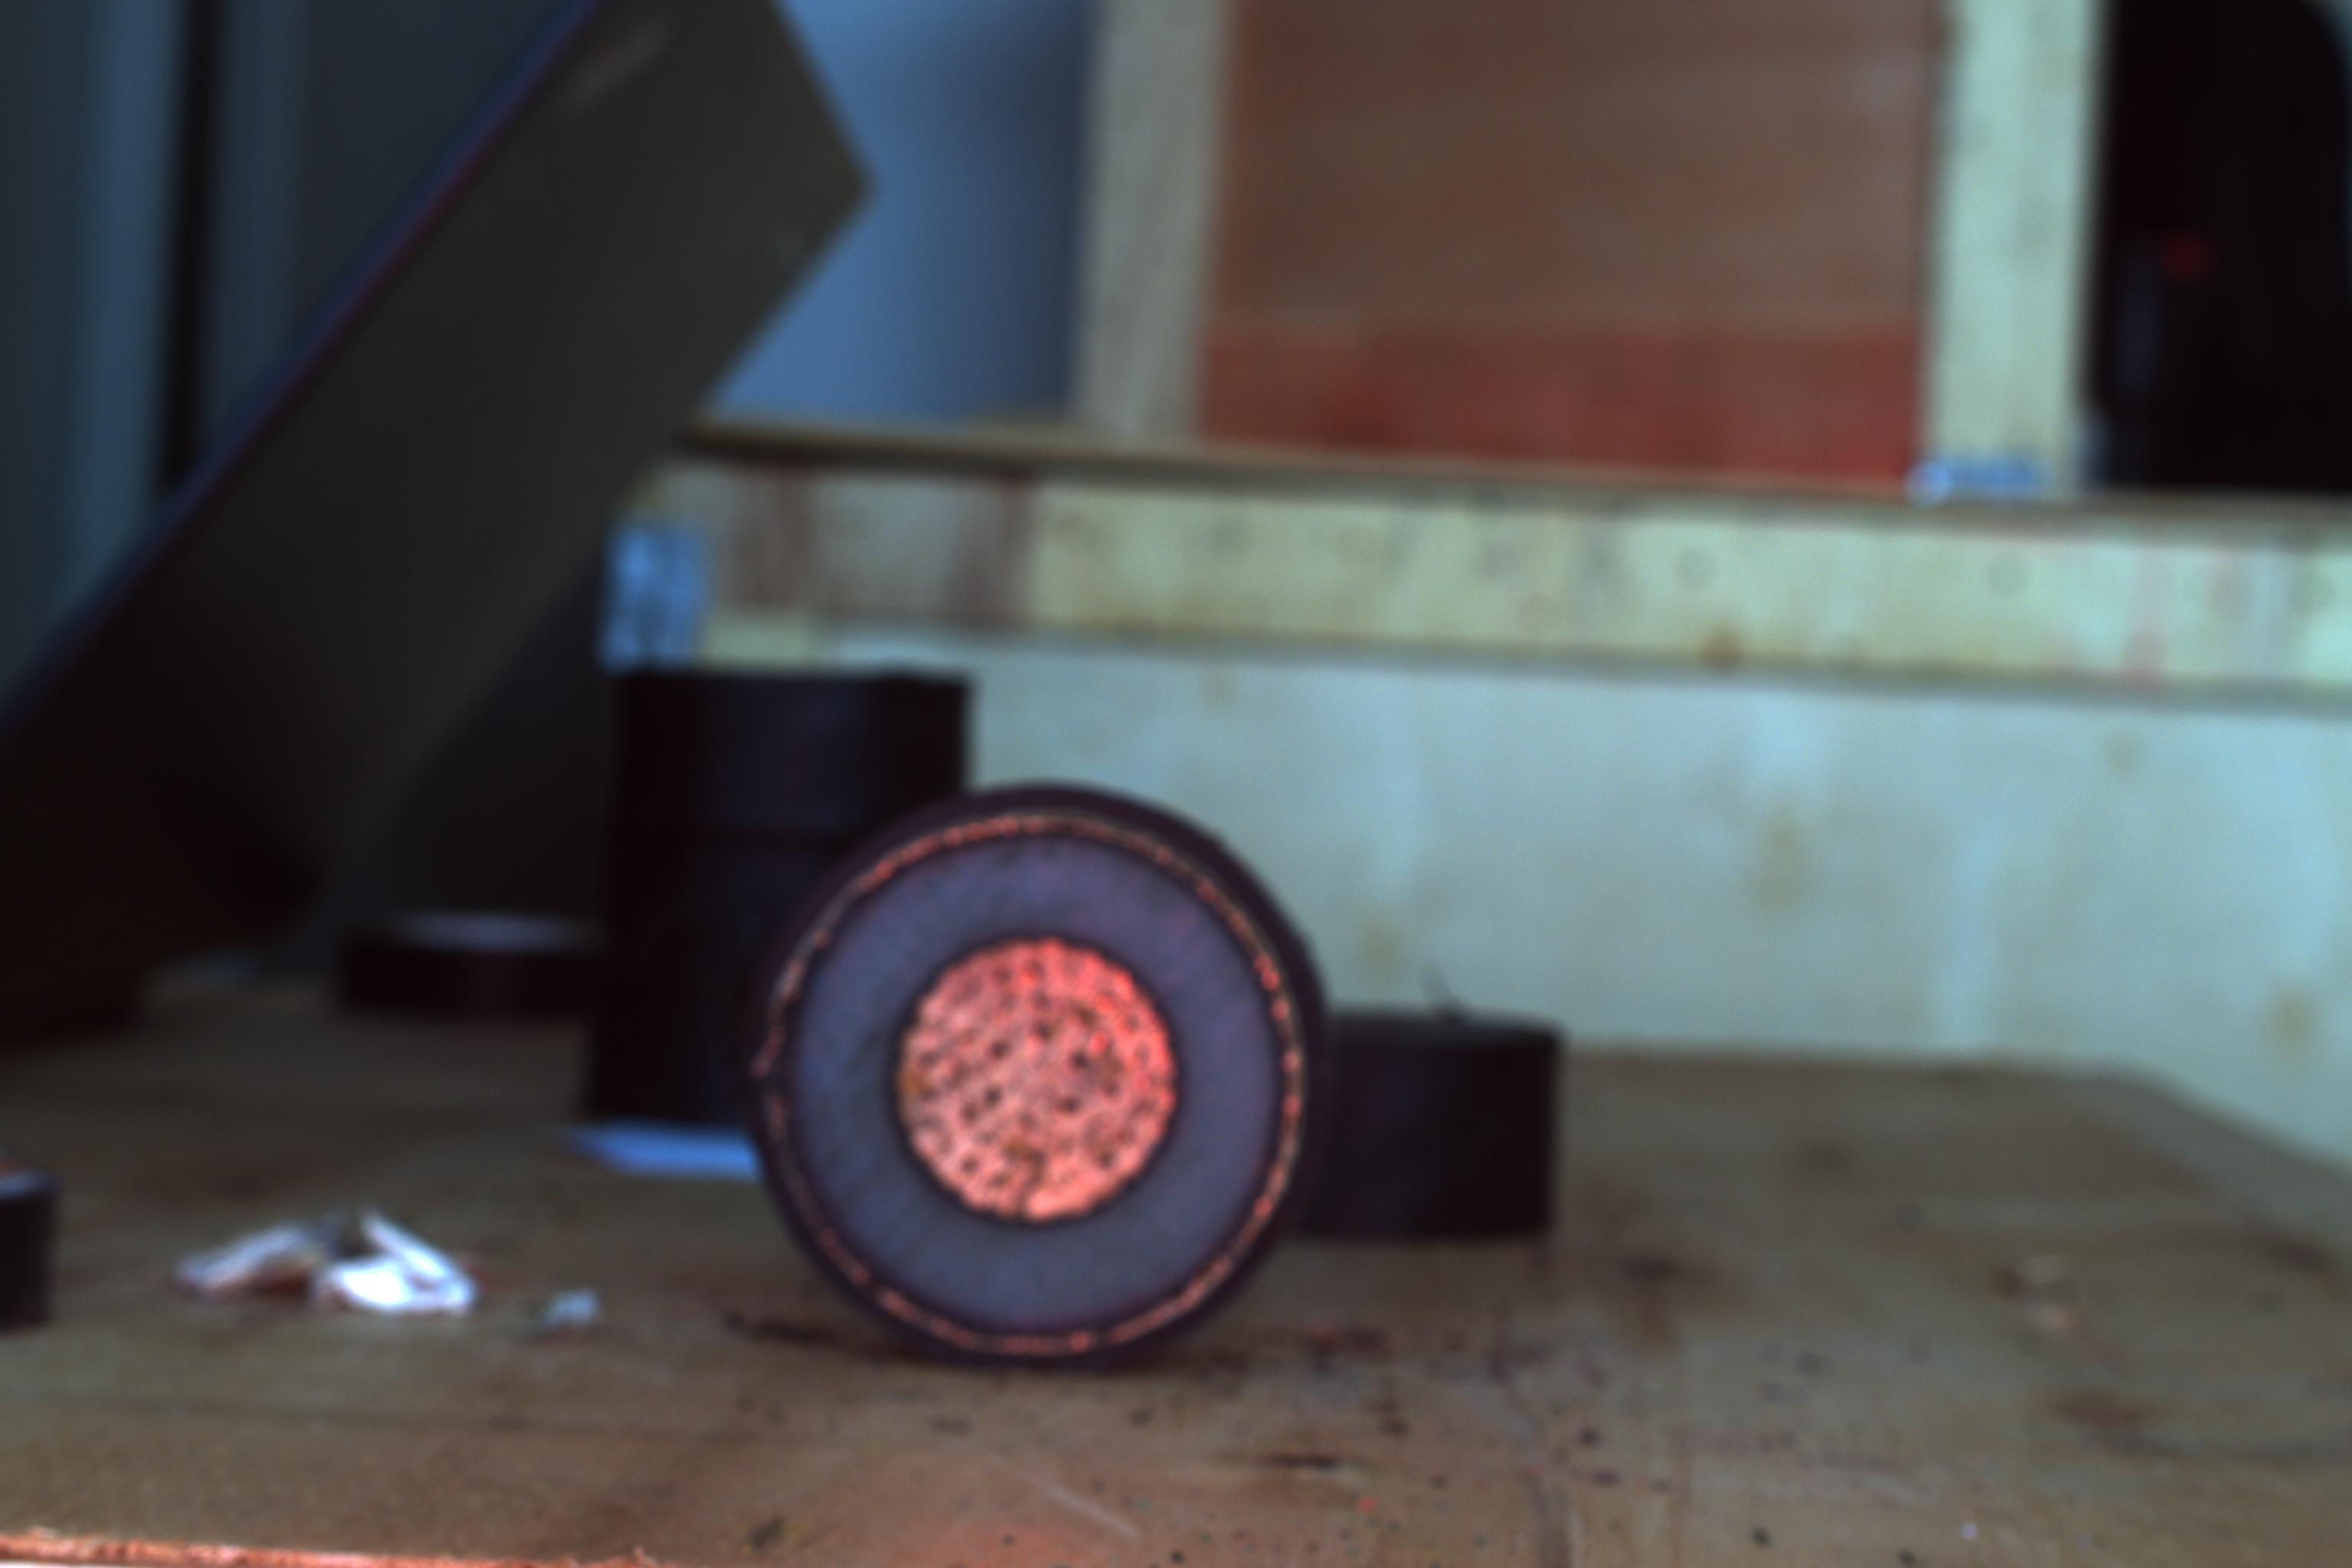YJV_26_35kV_1x630: (723, 791, 1321, 1363)
